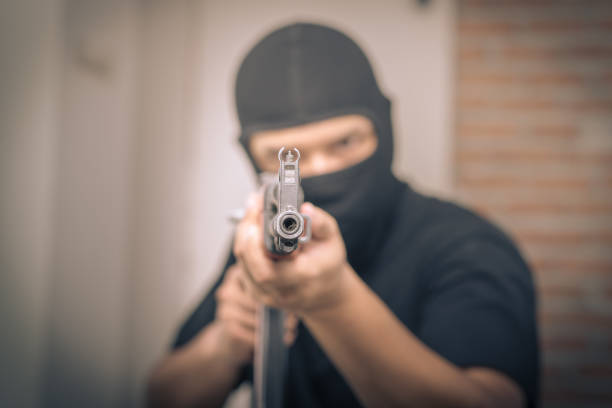terrorist: (156, 20, 502, 327)
